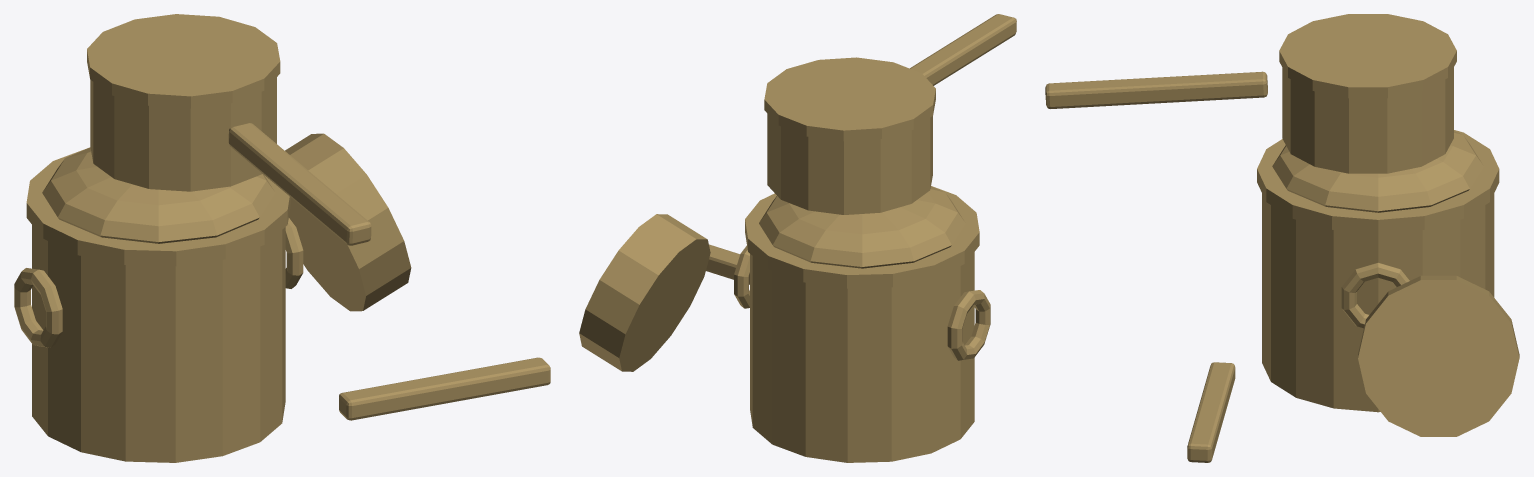
3 renders of one model, left to right at view 1: azimuth 30°, elevation 25°; view 2: azimuth 150°, elevation 25°; view 3: azimuth 270°, elevation 25°, orthographic. The views are drawn at different scales.
Visible parts, largest first — view 1: copperSet; view 2: copperSet; view 3: copperSet.
Part boxes in pixels (left/top/right/bottom): copperSet: left=14, top=14, right=550, bottom=462; copperSet: left=579, top=14, right=1016, bottom=462; copperSet: left=1045, top=14, right=1519, bottom=462.
Size of the model in its own units: 0.435 by 0.351 by 0.4696.
